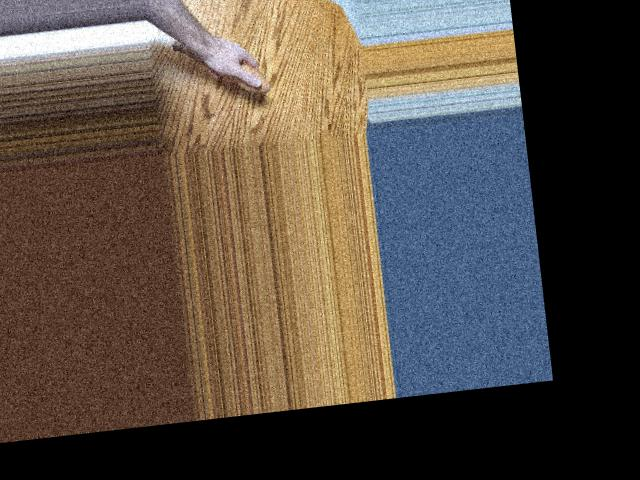sweet_potato: (168, 28, 272, 102)
